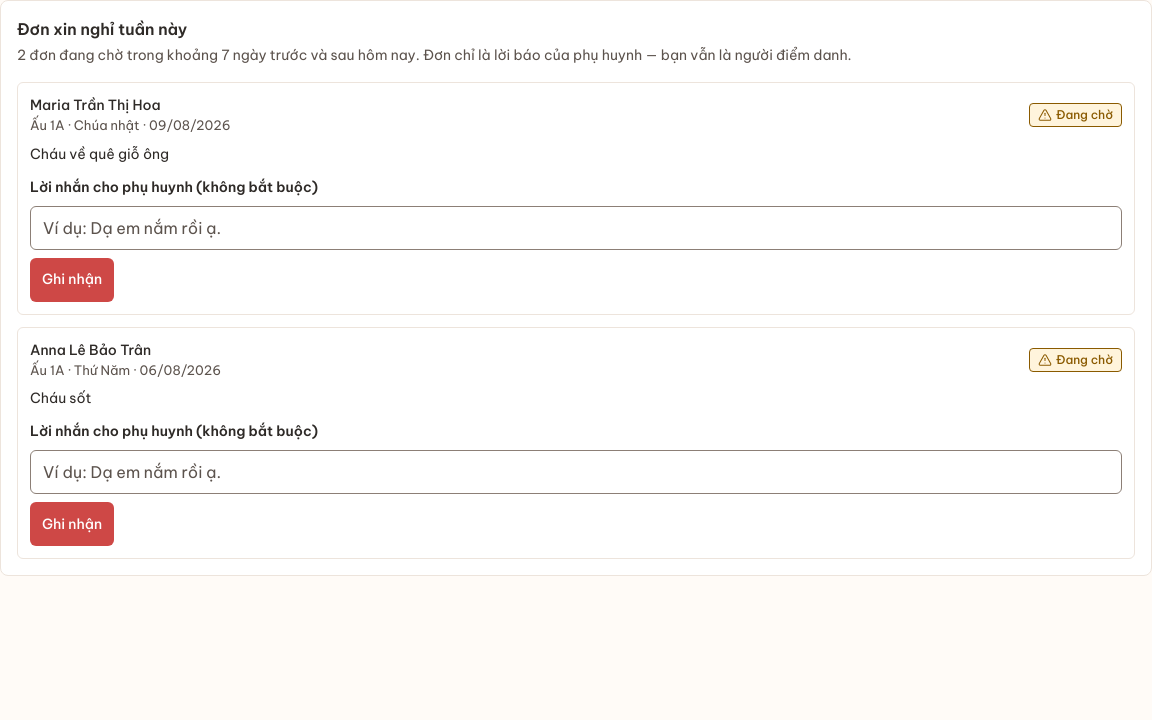
AC-F13-2 — ghi nhận đơn › D-61: báo kết quả bằng TÊN RIÊNG, không phải một câu chung chung
Click the button "Ghi nhận" below "Cháu về quê giỗ ông". click: (72, 280)
box: [30,258,114,302]
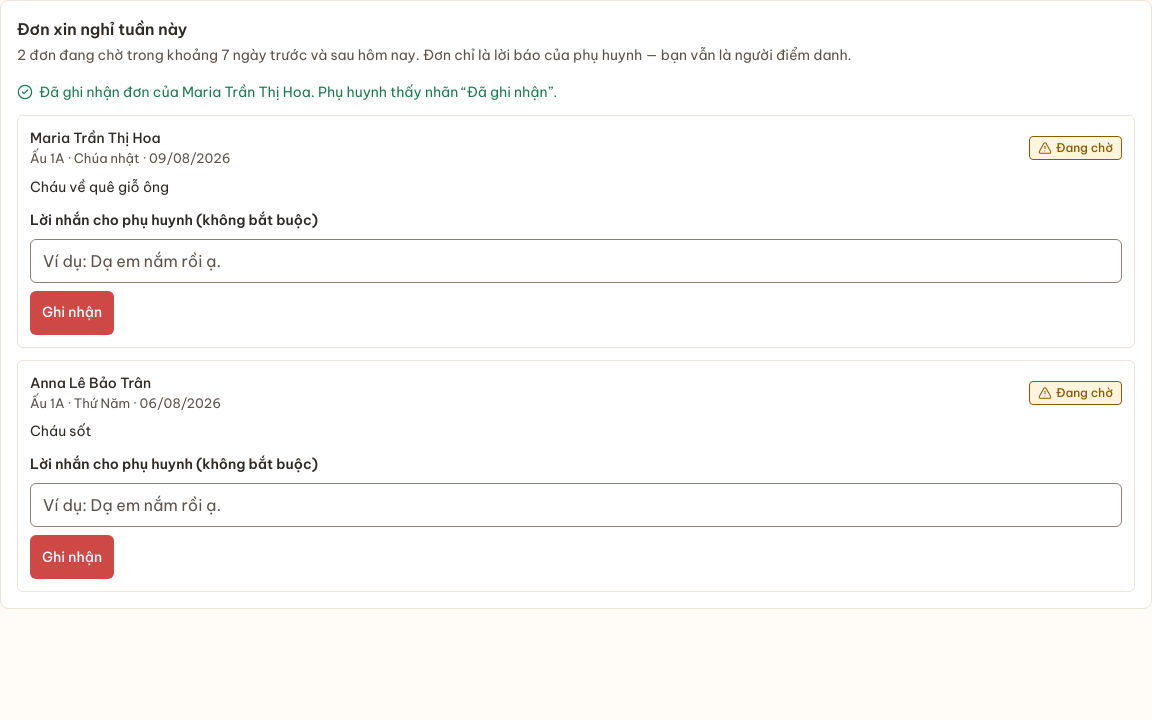
Expected: the text "Đã ghi nhận đơn của Maria Trần Thị Hoa" is shown, [39,83,557,101]
